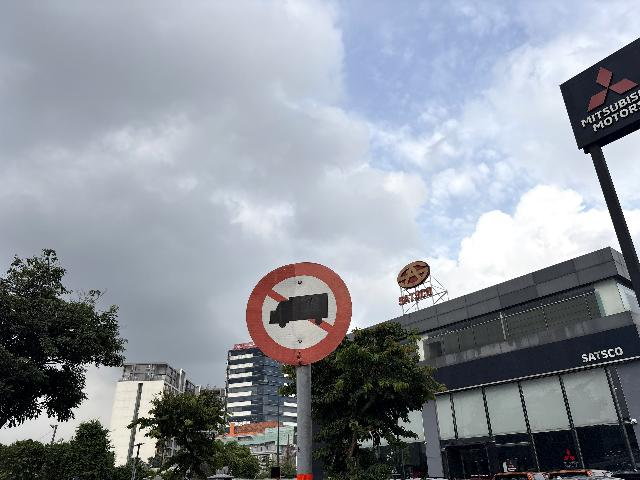cam-xe-tai: (246, 261, 353, 366)
